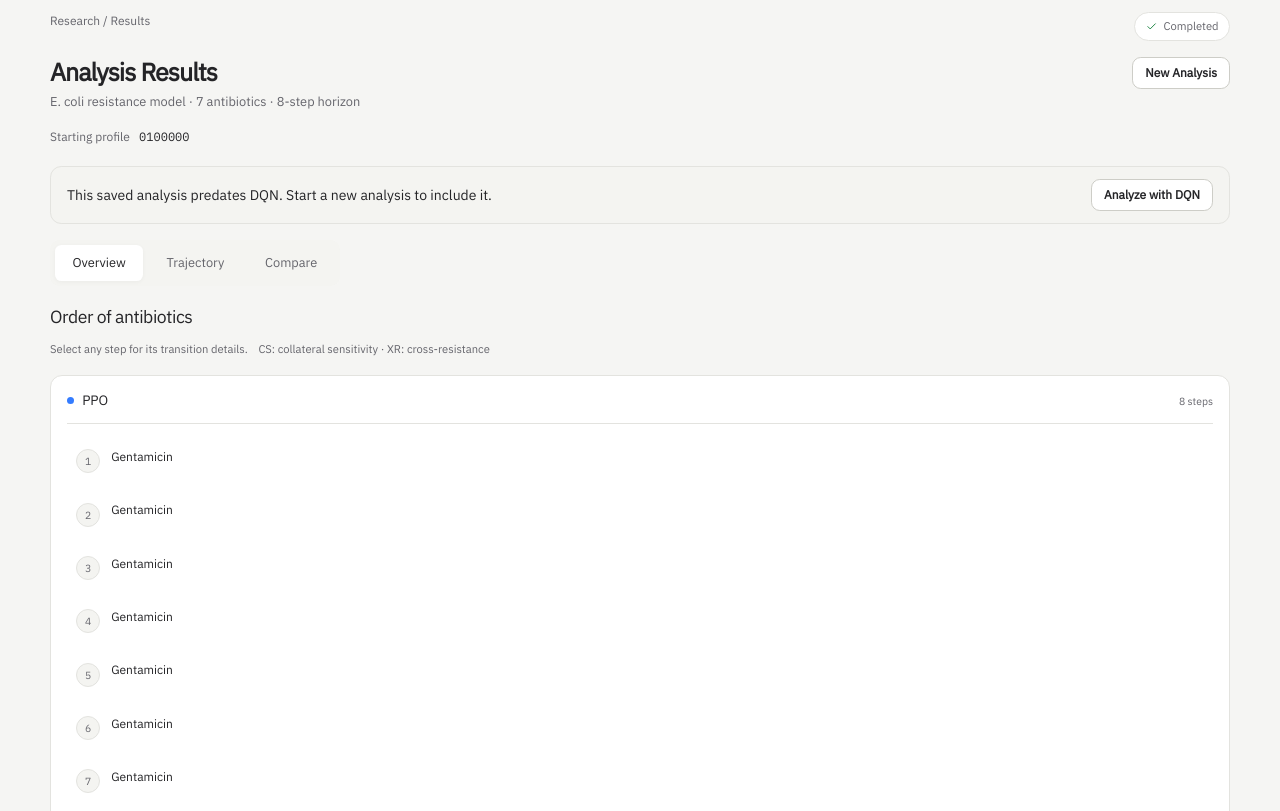
Test: saved analysis results › does not invent a comparator for a standalone PPO result
This screenshot has width=1280, height=811.
Click the tab "Compare" at {"x": 291, "y": 263}, box top-left (248, 245), bottom-right (335, 281)
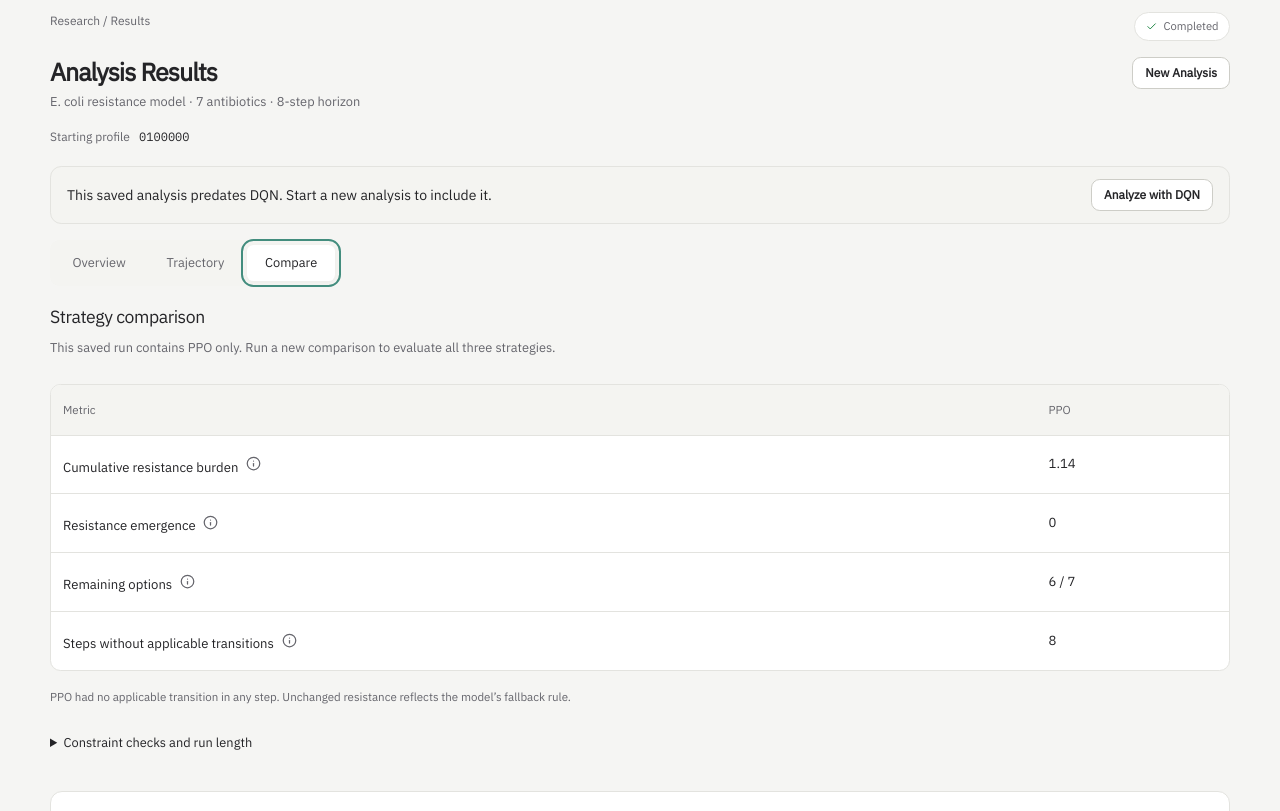
Expected: the text "This saved run contains PPO only" is shown, top-left (50, 339), bottom-right (556, 356)
